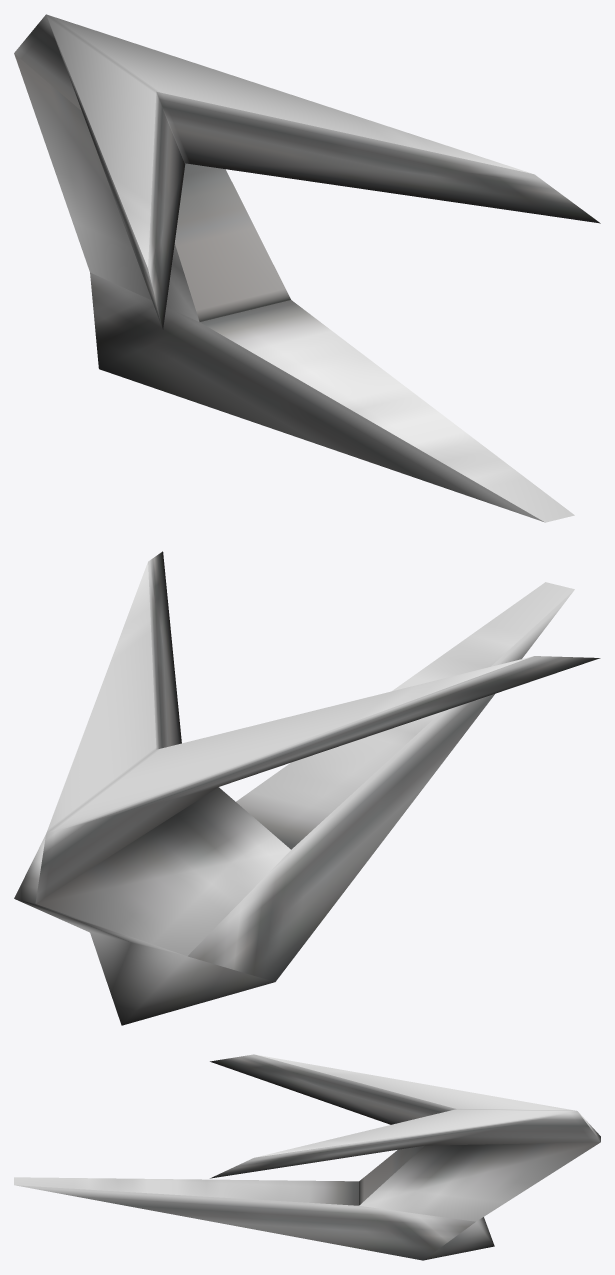
File: bnt_lr_slv1.glb
The picture shows the model from 3 angles, top to bottom: view 1: azimuth 30°, elevation 25°; view 2: azimuth 150°, elevation 25°; view 3: azimuth 270°, elevation 25°; orthographic projection. The views are drawn at different scales.
Parts seen in each view (by area): view 1: bnt_lr_slv1; view 2: bnt_lr_slv1; view 3: bnt_lr_slv1.
Boxes of the visible parts, left/top/right/bottom form: bnt_lr_slv1: left=14, top=14, right=600, bottom=522; bnt_lr_slv1: left=14, top=551, right=600, bottom=1025; bnt_lr_slv1: left=14, top=1054, right=600, bottom=1260.
Size of the model in its own units: 0.1777 by 0.0993 by 0.3764.
2 materials, 1 textured.
